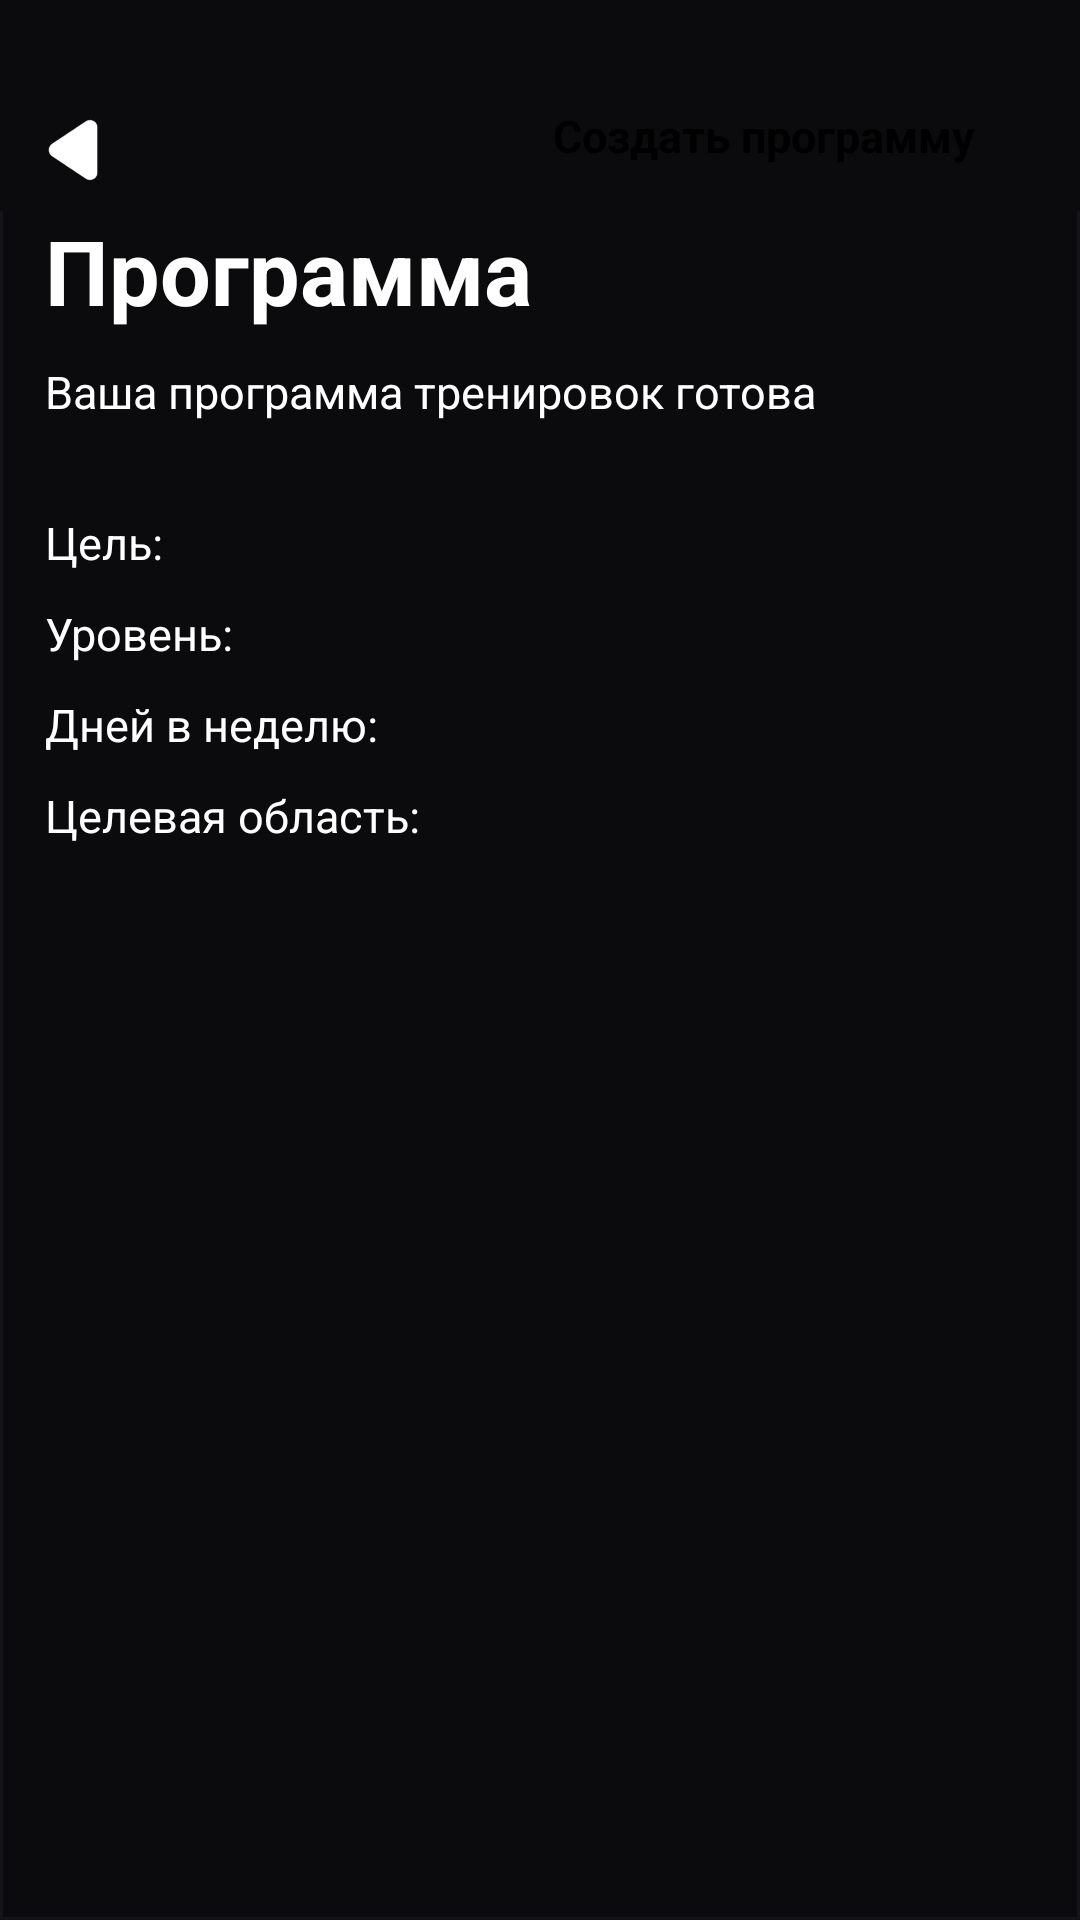

Icons on this 1080x1920 Android screen, each with the point to tap as (x=x, y=y):
back: (x=73, y=150)
